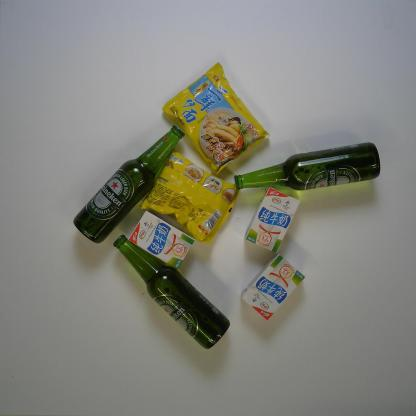Alcohol: (112, 234, 230, 350), (72, 125, 186, 243), (233, 140, 381, 192)
Instant Noodles: (162, 61, 271, 176), (139, 148, 240, 244)
Milk: (240, 253, 306, 322), (128, 210, 196, 270), (244, 185, 301, 256)
